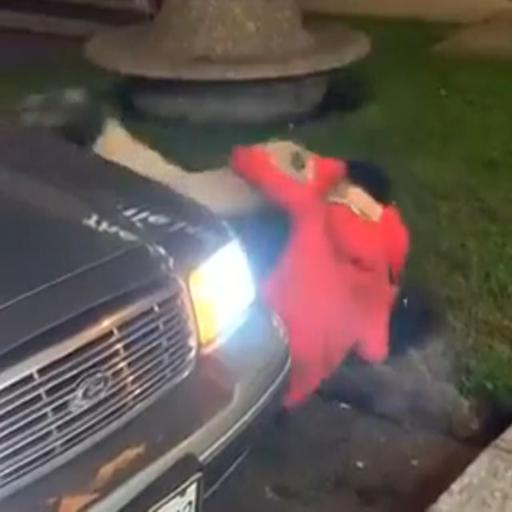violencia: (44, 78, 443, 413)
